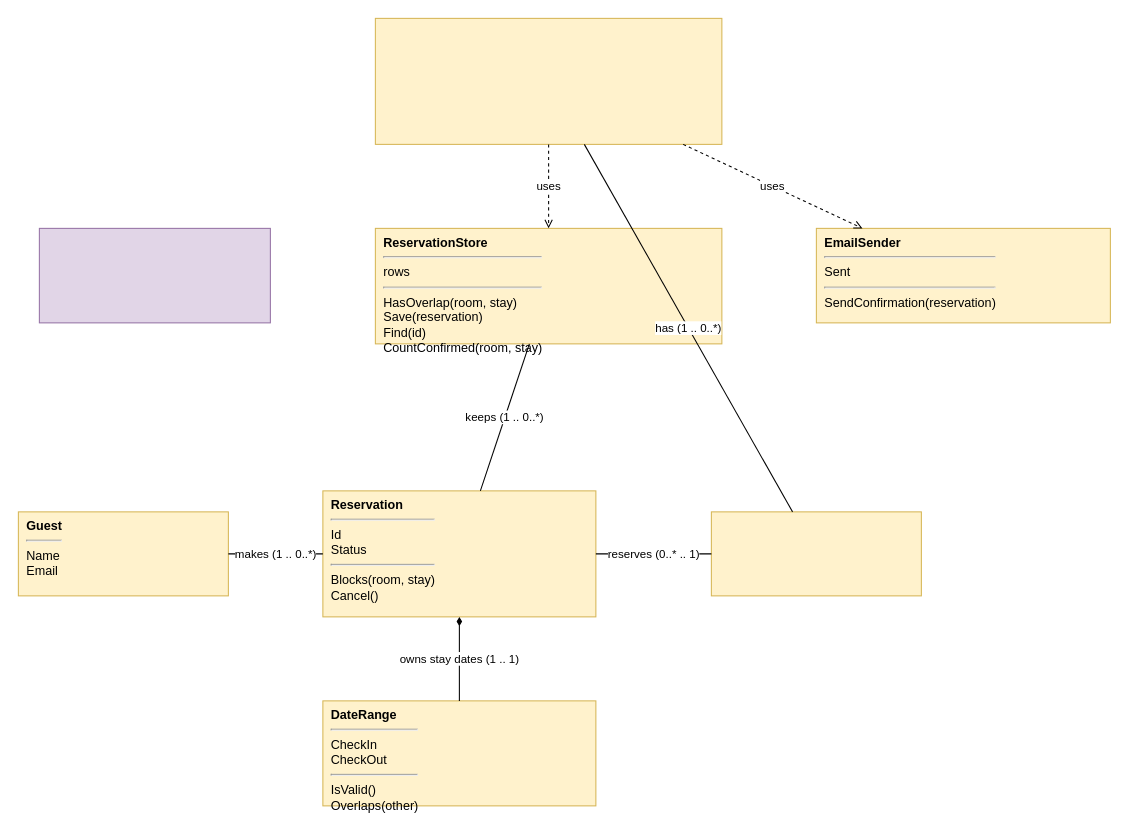
Image size: 1129x832. Some labels were removed from this diagram. The shapes that lost their labels are listed below. From the top down, each one's box as (x1, y1, x2, y2) in pixels, then its label:
(374, 17, 722, 144): BookingService rooms FindFreeRooms(stay) Reserve(guest, room, stay) Cancel(id)
(38, 227, 270, 323): «enumeration» ReservationStatus Confirmed Cancelled
(710, 511, 921, 596): Room Number Type
